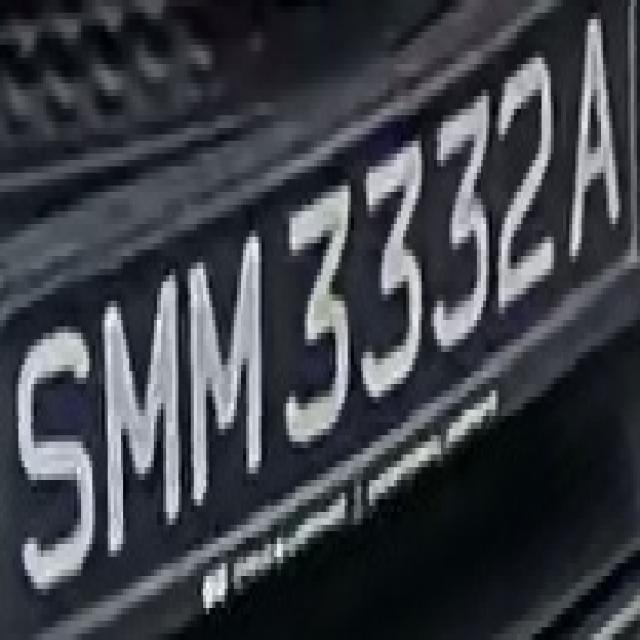2: (480, 64, 563, 320)
3: (283, 173, 363, 493), (418, 96, 496, 384), (344, 134, 424, 410)
A: (563, 13, 631, 262)
M: (98, 276, 194, 550), (182, 237, 268, 512)
S: (9, 301, 105, 595)
